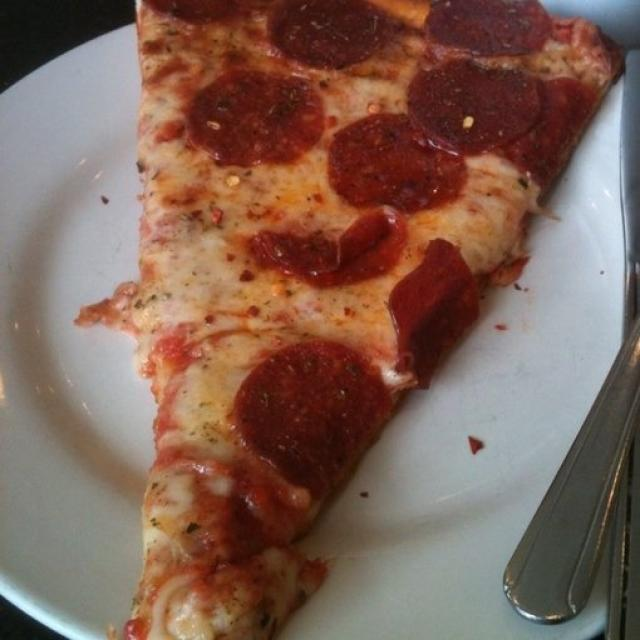Pepperoni: (235, 342, 382, 501), (332, 96, 471, 219), (385, 227, 491, 378), (188, 57, 326, 172), (490, 70, 604, 188), (415, 54, 539, 149), (258, 202, 409, 278), (275, 0, 385, 70), (428, 0, 548, 64), (138, 0, 241, 31)
Pizza: (124, 0, 622, 640)
